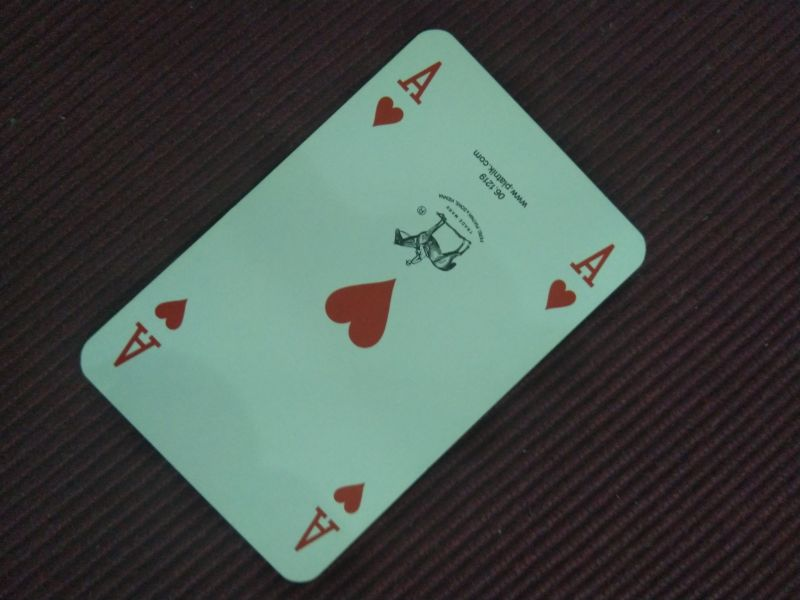Ah: (109, 296, 194, 370), (293, 479, 368, 554), (539, 241, 617, 312), (369, 58, 444, 130)
